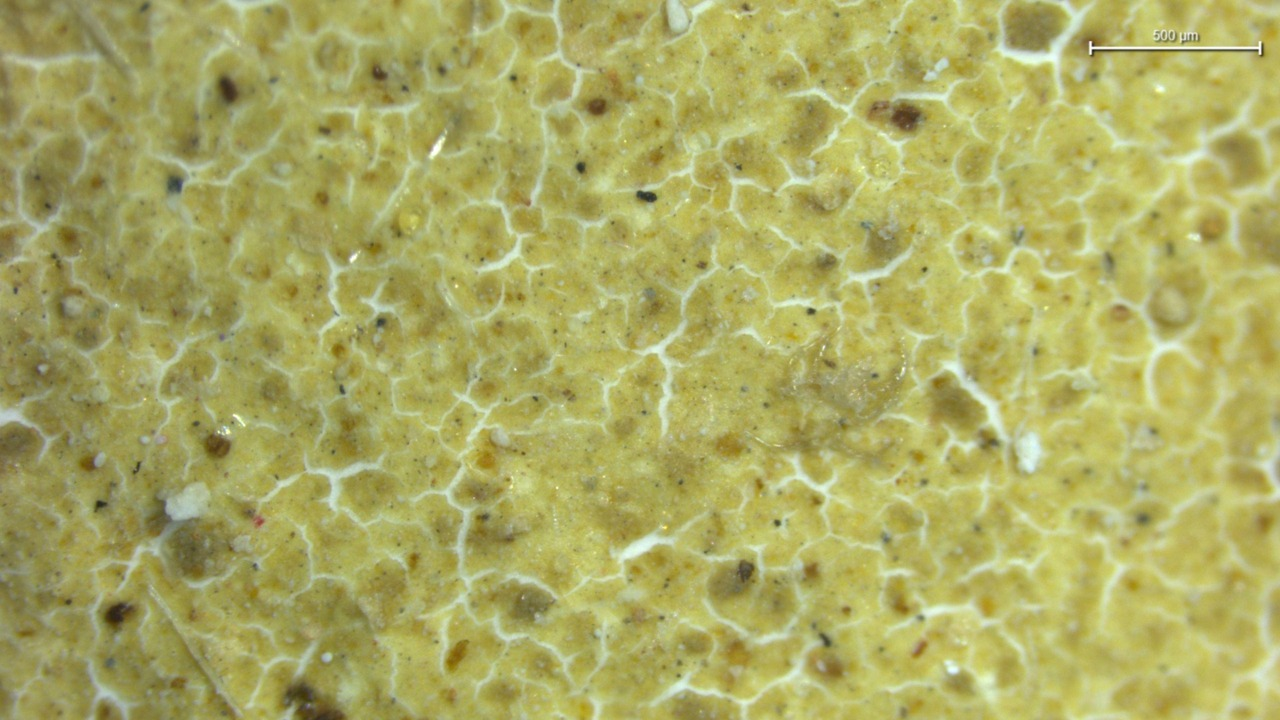microplastic_fragment: (165, 482, 210, 521), (666, 0, 691, 34)
